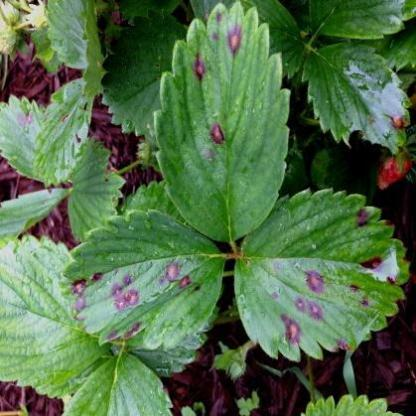Strawberry_Leaf_Spot: (153, 0, 292, 244), (233, 185, 413, 363), (58, 208, 226, 352), (300, 41, 416, 158), (33, 77, 94, 189), (66, 137, 128, 242), (0, 93, 47, 181), (0, 189, 72, 238)
Strawberry_Powdery_Mildew_Fruit: (377, 149, 414, 190)
